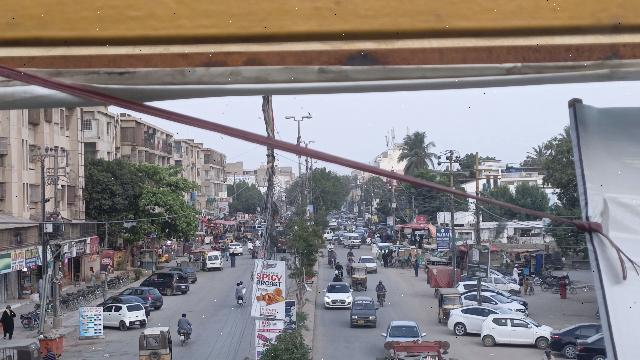Bike: (177, 328, 191, 348), (376, 291, 388, 307), (235, 294, 245, 312)
Car: (478, 311, 553, 349), (549, 318, 601, 357), (445, 304, 504, 337), (140, 270, 192, 298), (381, 316, 427, 347), (101, 301, 147, 330), (121, 286, 164, 311), (349, 295, 379, 329), (322, 281, 354, 309)
Person: (0, 302, 18, 341), (175, 312, 192, 331), (374, 278, 389, 294), (233, 280, 247, 297), (229, 250, 238, 269)
Rickshaw: (135, 326, 173, 360), (435, 285, 462, 324), (349, 262, 369, 291)
Van: (204, 250, 224, 272)
